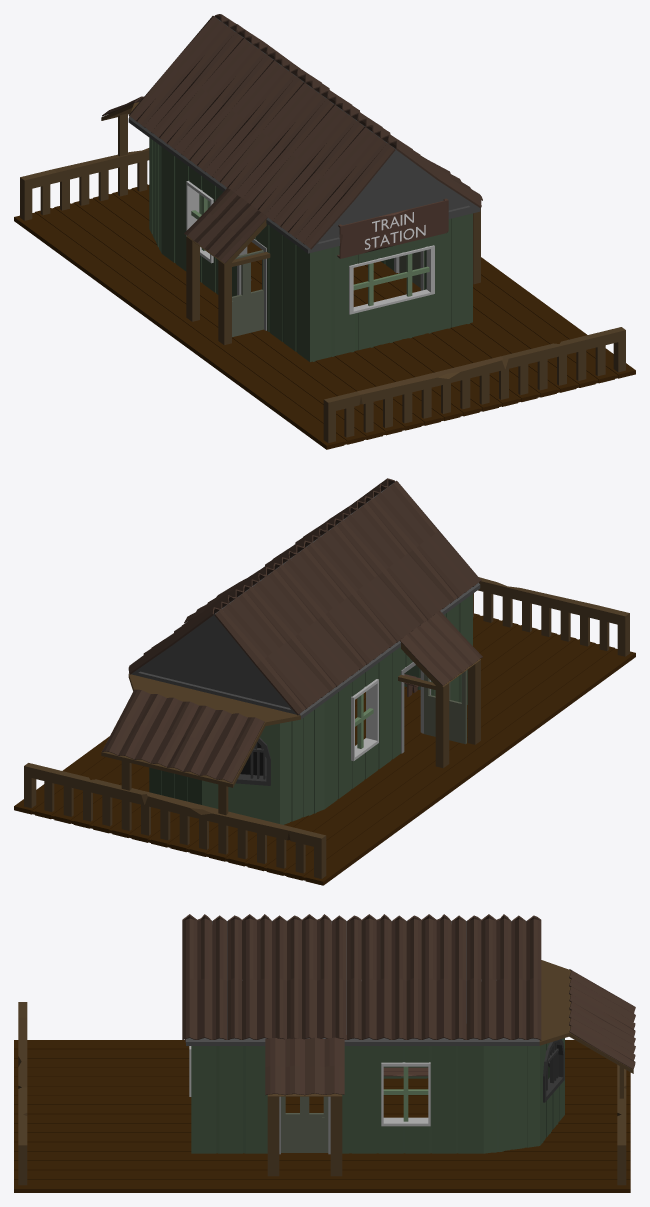
The model's file is Train_Station.fbx.
3 views of the same model, one above another, from view 1: azimuth 30°, elevation 25°; view 2: azimuth 150°, elevation 25°; view 3: azimuth 270°, elevation 25° (orthographic).
Visible parts, largest first — view 1: Train_Station_Merged; view 2: Train_Station_Merged; view 3: Train_Station_Merged.
Boxes of the visible parts, x1,y1,x2,y2 form: Train_Station_Merged: [14, 14, 635, 449]; Train_Station_Merged: [14, 478, 635, 885]; Train_Station_Merged: [14, 914, 635, 1192].
Bounding box in the file's own units: 800 × 507 × 1412.
